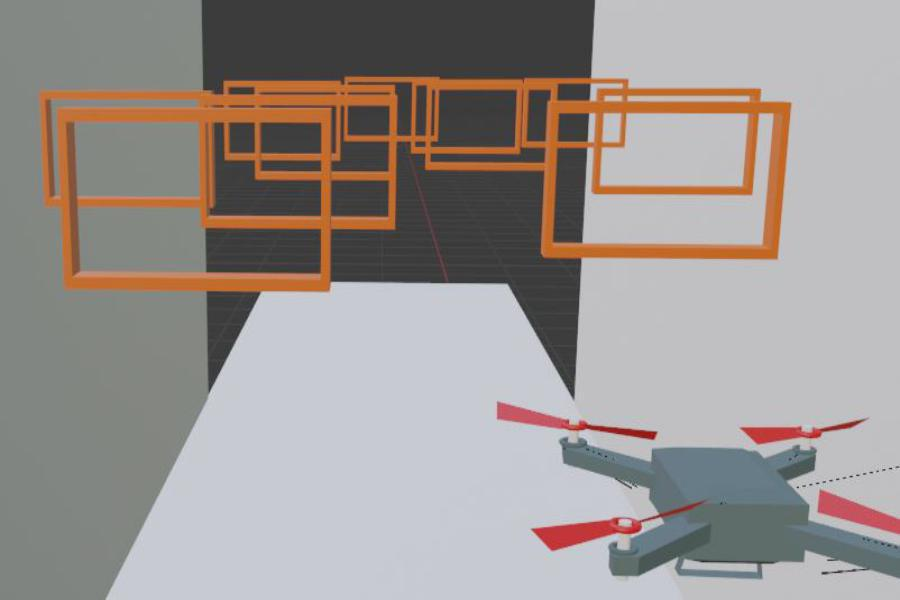GATE: (59, 109, 323, 287), (548, 103, 790, 259), (204, 95, 397, 232), (40, 91, 217, 210), (600, 88, 758, 195), (255, 84, 399, 181), (425, 83, 557, 171), (226, 79, 343, 159), (412, 82, 522, 153)
